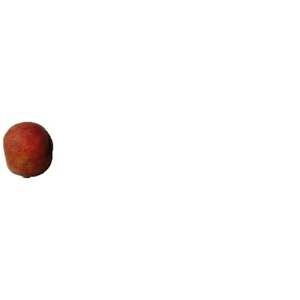pêssego: (2, 122, 53, 180)
